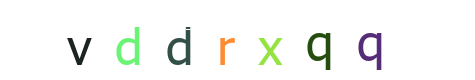D: (151, 0, 231, 80), (184, 0, 264, 80)
Q: (217, 0, 297, 80), (314, 0, 394, 80)
R: (189, 0, 269, 80)
V: (145, 0, 225, 80)
X: (197, 0, 277, 80)
